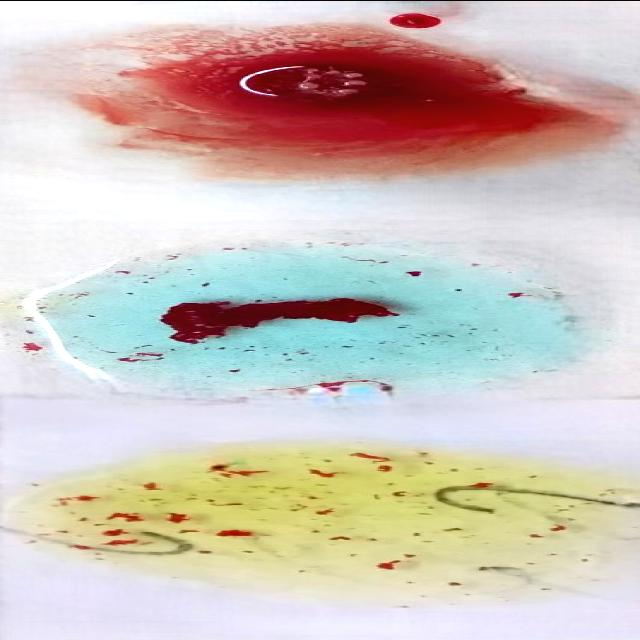A: (20, 242, 584, 399)
B: (10, 452, 640, 594)
D: (66, 30, 640, 176)
